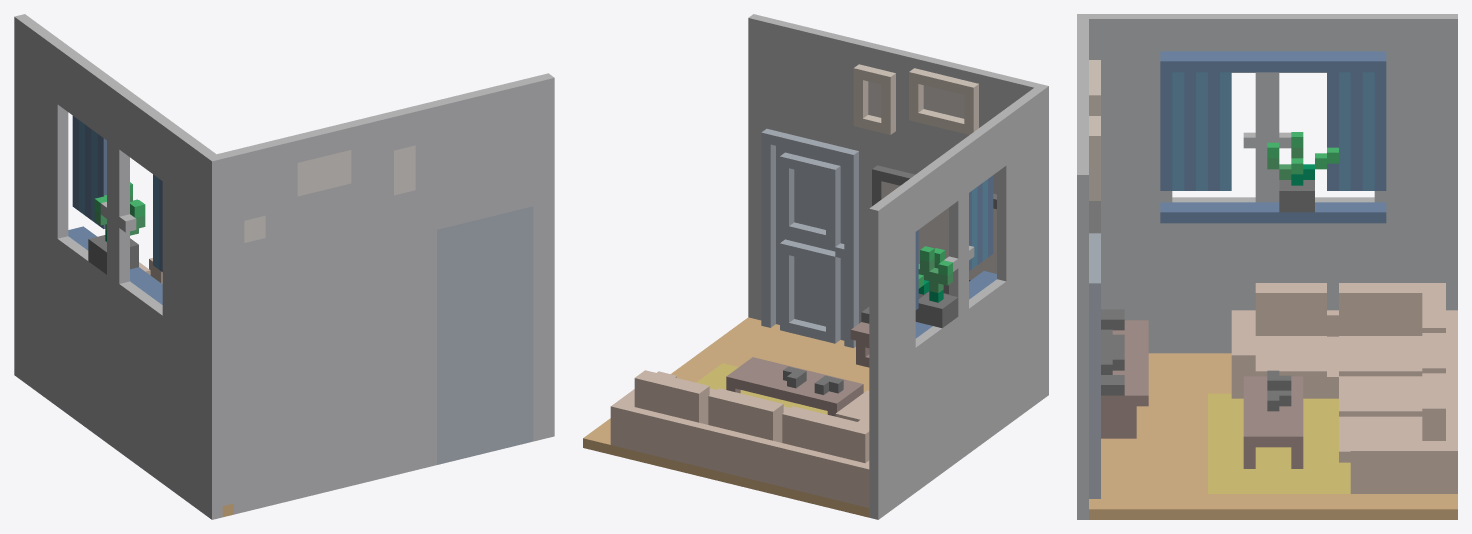
3 renders of one model, left to right at view 1: azimuth 30°, elevation 25°; view 2: azimuth 150°, elevation 25°; view 3: azimuth 270°, elevation 25°, orthographic. The views are drawn at different scales.
Parts seen in each view (by area): view 1: Object_2; view 2: Object_2; view 3: Object_2.
Boxes of the visible parts, x1=… form: Object_2: x1=14, y1=14, x2=554, y2=519; Object_2: x1=583, y1=14, x2=1048, y2=519; Object_2: x1=1077, y1=14, x2=1457, y2=519.
Size of the model in its own units: 32 by 32 by 32.
